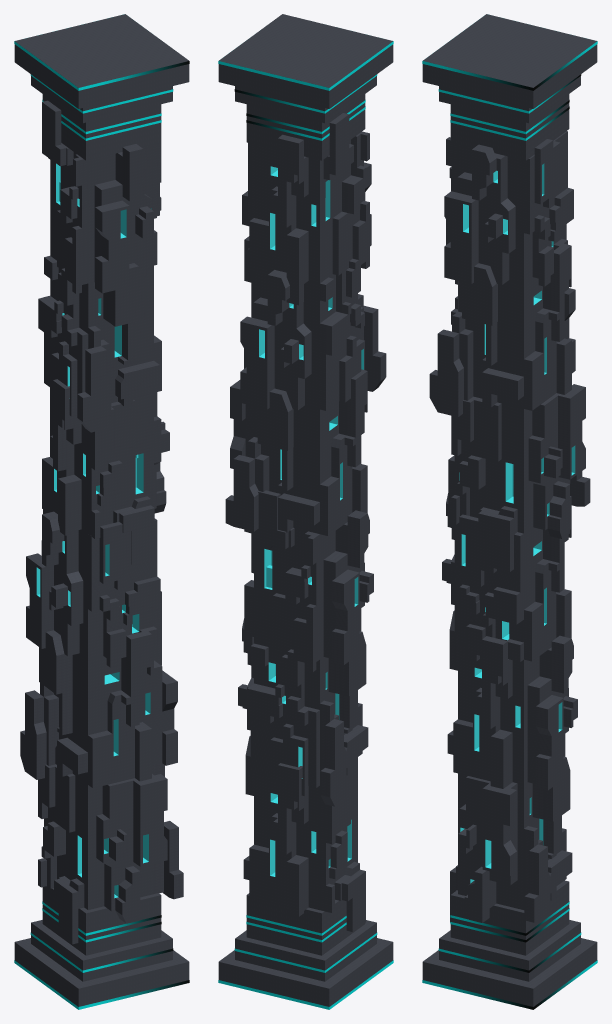
The model's file is AllRoomAb.fbx.
The picture shows the model from 3 angles, left to right: view 1: azimuth 30°, elevation 25°; view 2: azimuth 150°, elevation 25°; view 3: azimuth 330°, elevation 25°; orthographic projection.
Visible parts, largest first — view 1: SM_VA_AllRoomAb.mo; view 2: SM_VA_AllRoomAb.mo; view 3: SM_VA_AllRoomAb.mo.
Boxes of the visible parts, x1,y1,x2,y2 form: SM_VA_AllRoomAb.mo: (14,14,189,1009); SM_VA_AllRoomAb.mo: (218,14,393,1009); SM_VA_AllRoomAb.mo: (422,14,597,1009).
Bounding box in the file's own units: 75.03 × 580 × 74.99.
